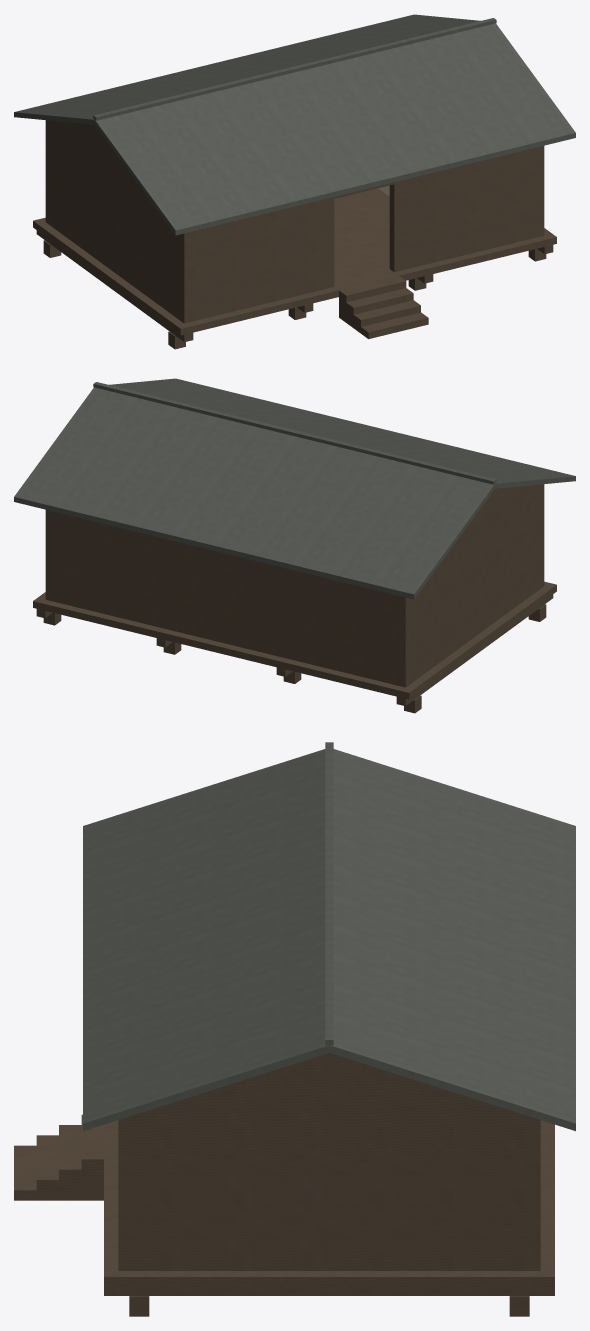
Rendered from granary-A-LOD1.glb.
3 views of the same model, one above another, from view 1: azimuth 30°, elevation 25°; view 2: azimuth 150°, elevation 25°; view 3: azimuth 270°, elevation 25° (orthographic). The views are drawn at different scales.
Parts seen in each view (by area): view 1: granary-A-static_tile, granary-A-static_timber; view 2: granary-A-static_tile, granary-A-static_timber; view 3: granary-A-static_tile, granary-A-static_timber.
Part boxes in pixels (x1=…): granary-A-static_tile: x1=14, y1=14, x2=575, y2=235; granary-A-static_timber: x1=33, y1=120, x2=556, y2=349; granary-A-static_tile: x1=14, y1=378, x2=575, y2=599; granary-A-static_timber: x1=33, y1=484, x2=556, y2=713; granary-A-static_tile: x1=83, y1=742, x2=575, y2=1131; granary-A-static_timber: x1=14, y1=1053, x2=554, y2=1316.
Size of the model in its own units: 10 by 4.5 by 7.98.
3 materials, 2 textured.
